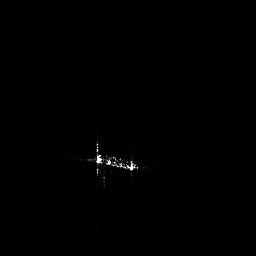ship: (90, 140, 142, 177)
